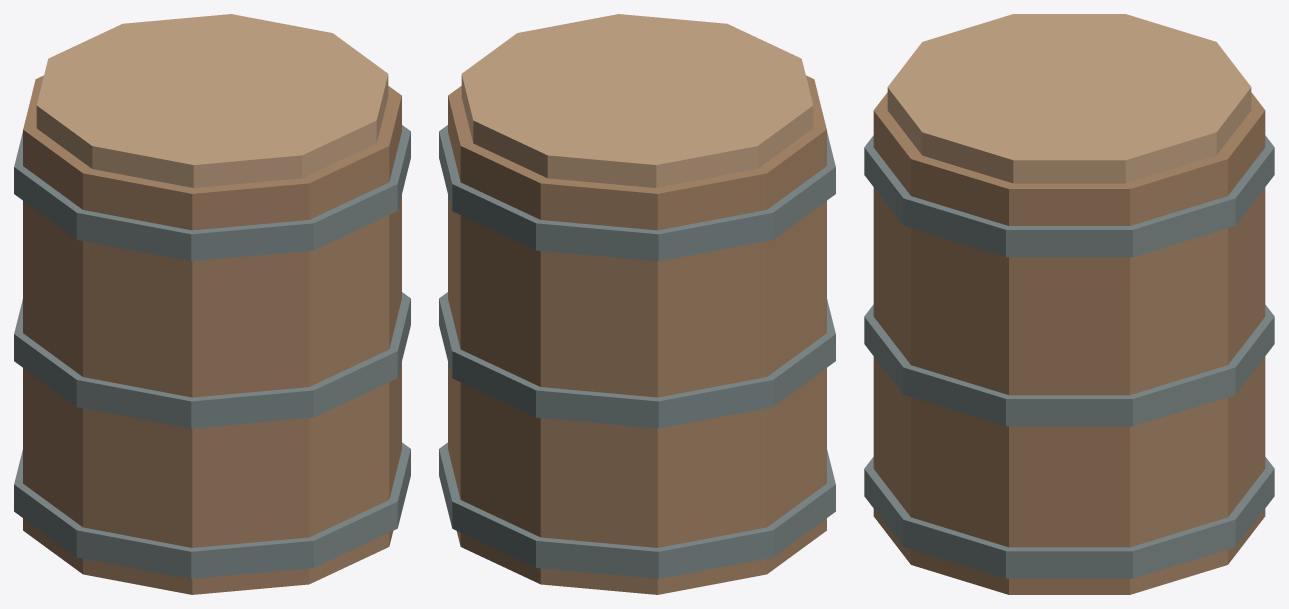
Rendered from harbor-barrel.glb.
3 renders of one model, left to right at view 1: azimuth 30°, elevation 25°; view 2: azimuth 150°, elevation 25°; view 3: azimuth 270°, elevation 25°, orthographic.
Visible parts, largest first — view 1: Barrel body, Barrel lid, Iron barrel band, Iron barrel band.001, Iron barrel band.002; view 2: Barrel body, Barrel lid, Iron barrel band, Iron barrel band.001, Iron barrel band.002; view 3: Barrel body, Barrel lid, Iron barrel band.002, Iron barrel band.001, Iron barrel band.
Part boxes in pixels (bbox=[...]): Barrel body: bbox=[23, 75, 401, 594]; Barrel lid: bbox=[36, 14, 388, 187]; Iron barrel band: bbox=[14, 442, 410, 578]; Iron barrel band.001: bbox=[14, 292, 410, 428]; Iron barrel band.002: bbox=[14, 125, 410, 261]; Barrel body: bbox=[448, 75, 826, 594]; Barrel lid: bbox=[461, 14, 813, 187]; Iron barrel band: bbox=[439, 442, 835, 578]; Iron barrel band.001: bbox=[439, 292, 835, 428]; Iron barrel band.002: bbox=[439, 125, 835, 261]; Barrel body: bbox=[873, 92, 1265, 594]; Barrel lid: bbox=[887, 14, 1251, 183]; Iron barrel band.002: bbox=[864, 135, 1274, 257]; Iron barrel band.001: bbox=[864, 304, 1274, 426]; Iron barrel band: bbox=[864, 457, 1274, 578].
Size of the model in its own units: 0.8369 by 1.02 by 0.88.
